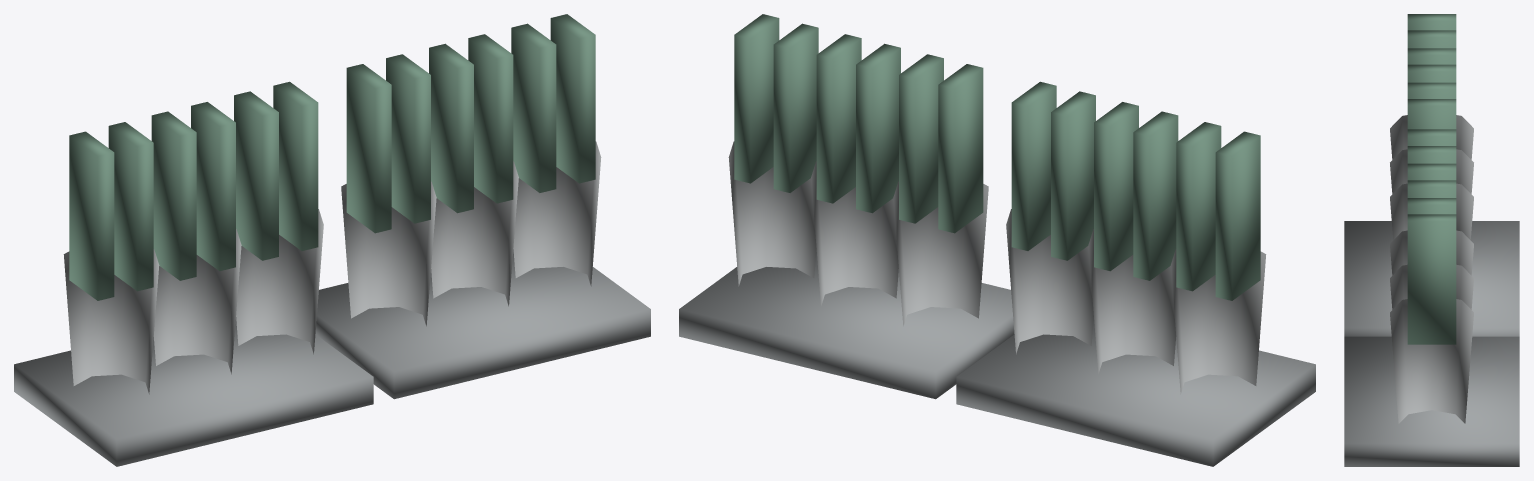
Rendered from standing_floral_display__cluster.glb.
3 views of the same model, side by side, from view 1: azimuth 30°, elevation 25°; view 2: azimuth 150°, elevation 25°; view 3: azimuth 270°, elevation 25° (orthographic). The views are drawn at different scales.
Parts seen in each view (by area): view 1: world; view 2: world; view 3: world.
Boxes of the visible parts, x1,y1,x2,y2 form: world: (14, 14, 650, 466); world: (679, 14, 1315, 466); world: (1344, 14, 1519, 466).
Bounding box in the file's own units: 1.62 × 0.81 × 0.54.
